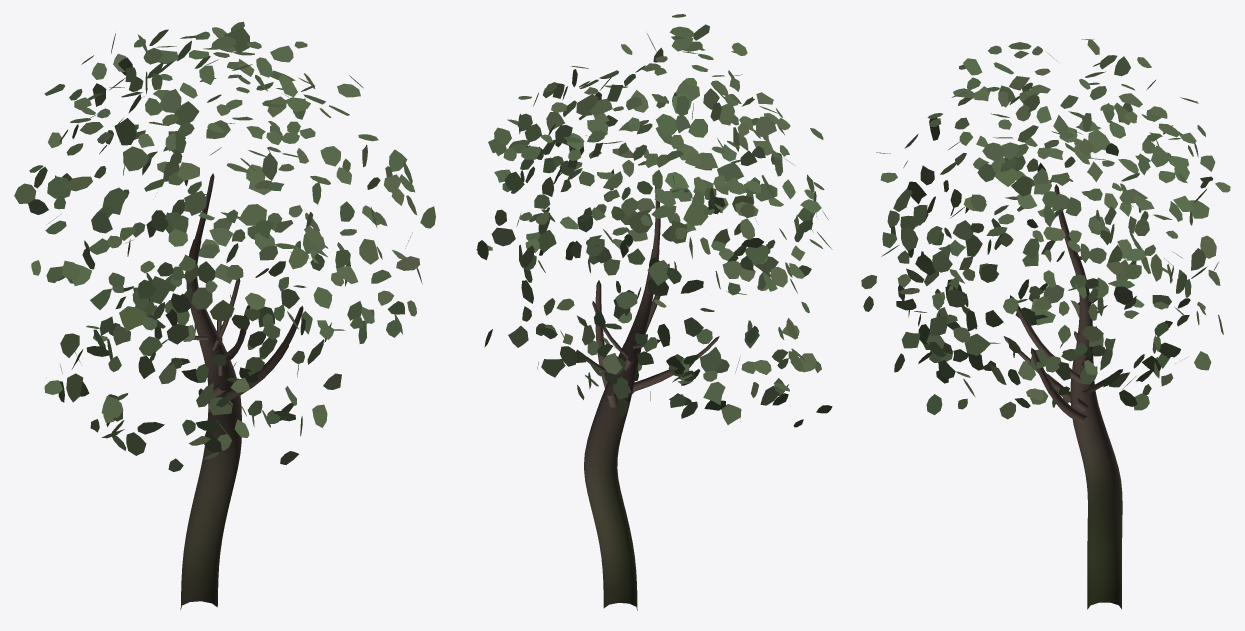
The model's file is SM_TreeFar_willow_0.glb.
3 views of the same model, side by side, from view 1: azimuth 30°, elevation 25°; view 2: azimuth 150°, elevation 25°; view 3: azimuth 270°, elevation 25° (orthographic). The views are drawn at different scales.
Parts seen in each view (by area): view 1: SM_TreeFar_willow_0; view 2: SM_TreeFar_willow_0; view 3: SM_TreeFar_willow_0.
Boxes of the visible parts, box(x1,y1,x2,y2) form: SM_TreeFar_willow_0: box(14, 21, 435, 609); SM_TreeFar_willow_0: box(476, 14, 832, 610); SM_TreeFar_willow_0: box(861, 39, 1230, 609).
Bounding box in the file's own units: 7.65 × 12.08 × 7.23.
